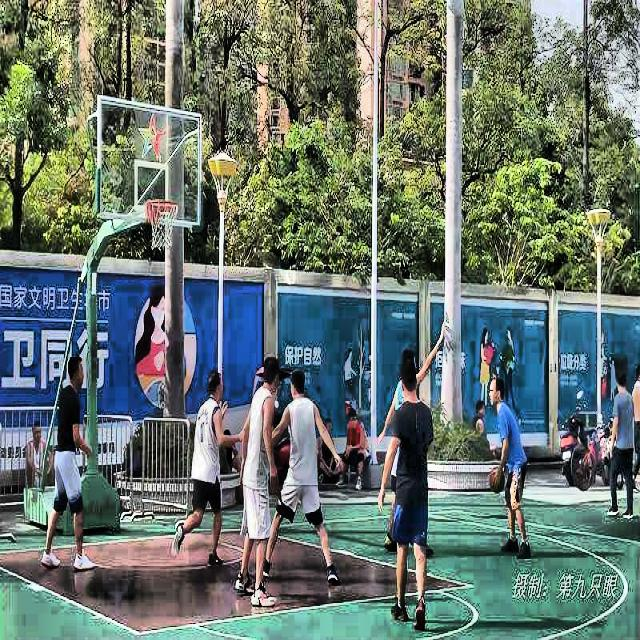rim: (150, 200, 179, 248)
